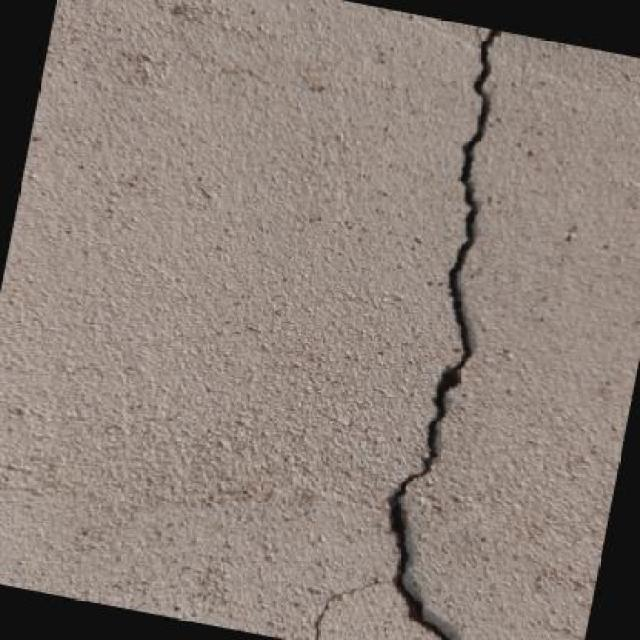crack: (391, 31, 497, 638)
